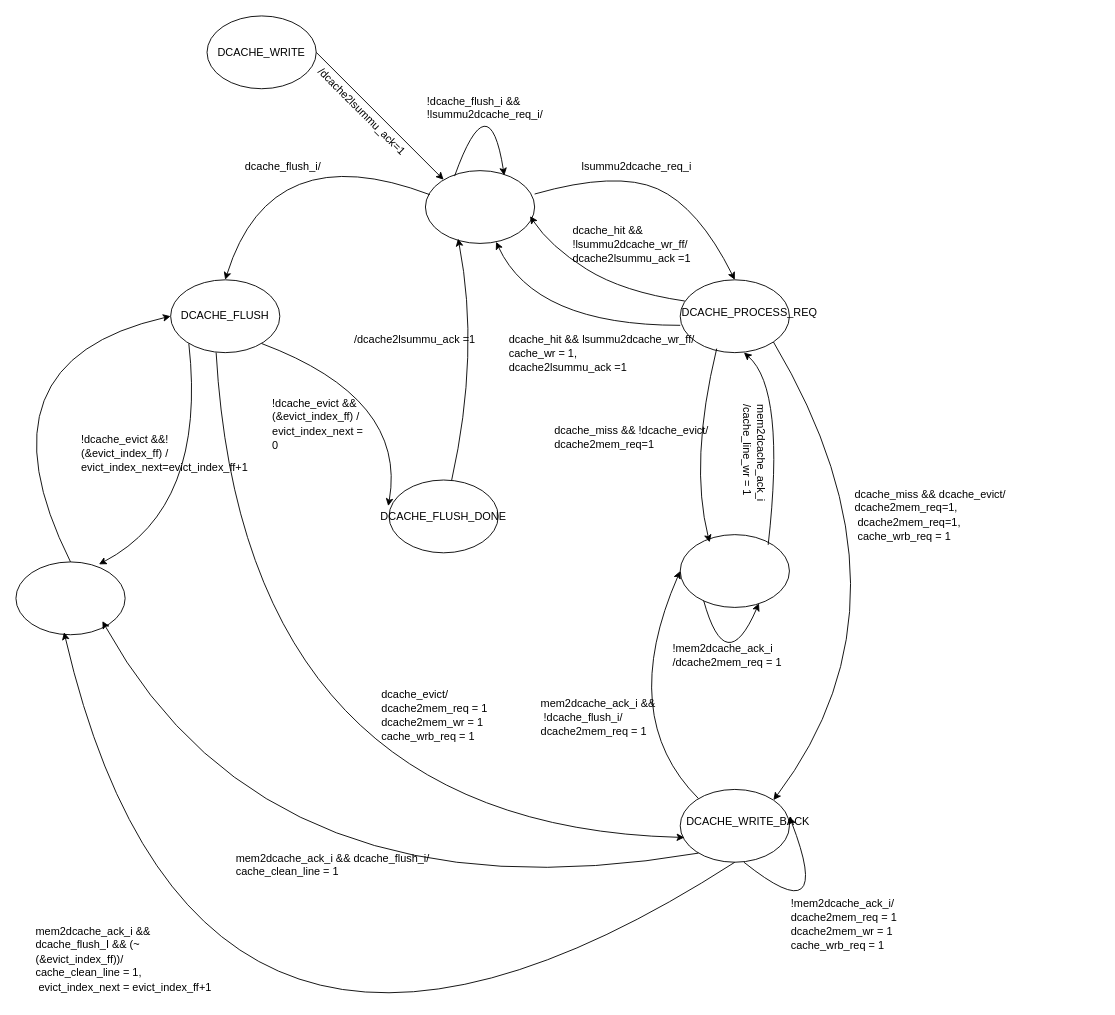
Image size: 1115x1015. Some labels were removed from this diagram. The shapes that lost their labels are listed below. From the top down, each one's centre as x and y in pixels, then its label:
At point 480,206: "DCACHE_IDLE".
At point 734,570: "DCACHE_ALLOCATE".
At point 70,598: "DCACHE_FLUSH_NEXT".
